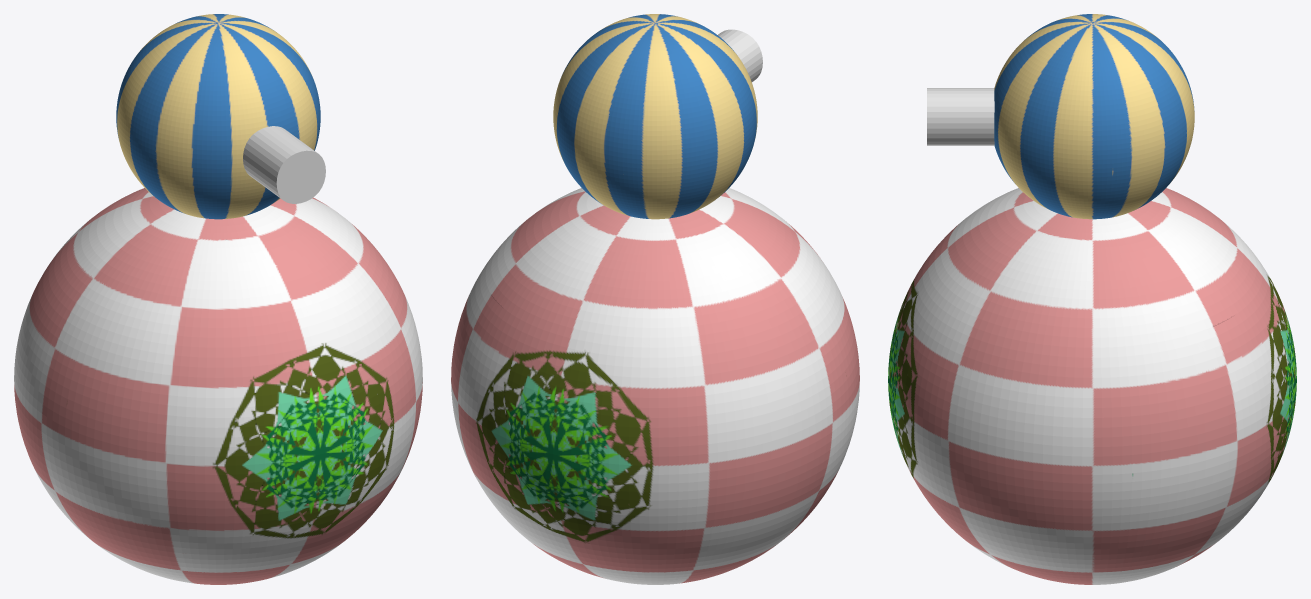
Rendered from BOD0_BMC11_BCC2_BPT4_FRC10_HEA0_HMC13_HCC8_HPT2_ELT0_ERT0_ELL0_ERL1_AP0_AAL1_AAR2_BEK1.fbx.
The picture shows the model from 3 angles, left to right: view 1: azimuth 30°, elevation 25°; view 2: azimuth 150°, elevation 25°; view 3: azimuth 270°, elevation 25°; orthographic projection.
Visible parts, largest first — view 1: Body, Beak; view 2: Body, Beak; view 3: Body, Beak.
Boxes of the visible parts, x1,y1,x2,y2 form: Body: [14, 14, 422, 584]; Beak: [243, 126, 325, 203]; Body: [451, 14, 859, 584]; Beak: [718, 29, 762, 81]; Body: [888, 14, 1296, 584]; Beak: [927, 88, 994, 145].
Bounding box in the file's own units: 49.36 × 72.41 × 49.36.
Materials: 1 (1 with a texture image).
